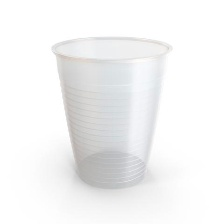glass: (42, 30, 181, 194)
